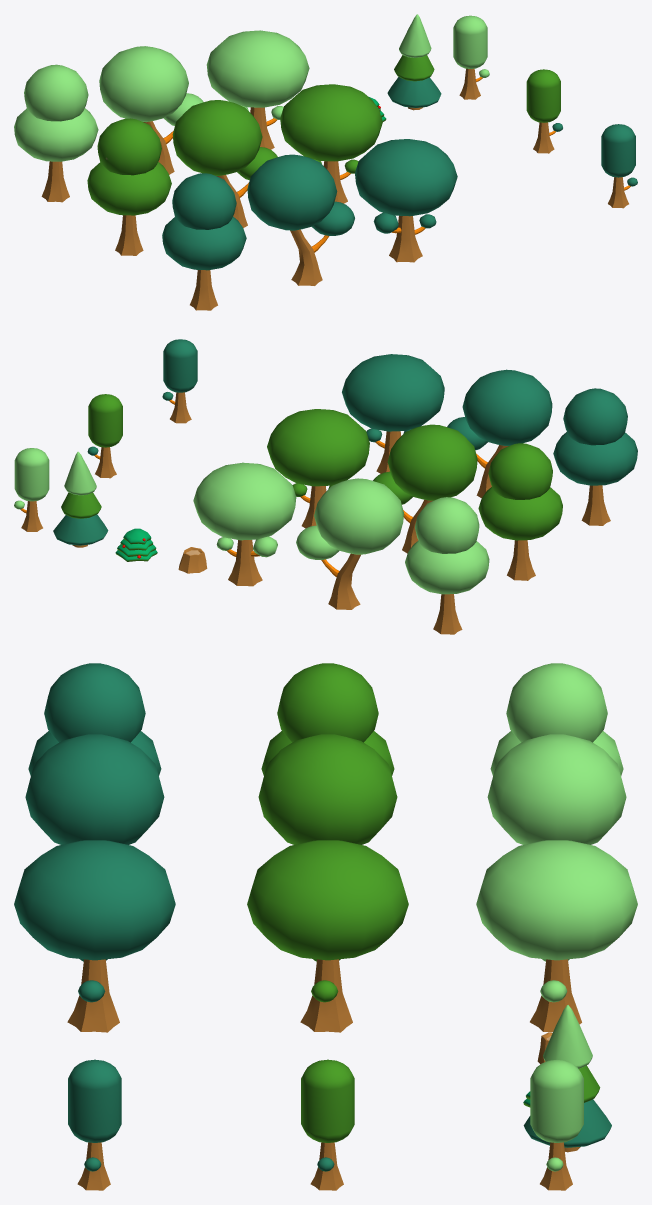
File: tree_v2.fbx
3 renders of one model, top to bottom at view 1: azimuth 30°, elevation 25°; view 2: azimuth 150°, elevation 25°; view 3: azimuth 270°, elevation 25°, orthographic. The views are drawn at different scales.
Visible parts, largest first — view 1: Tree_02_color_03, Tree_03_color_03, Tree_04_color_03, Tree_04_color_01, Tree_04_color_02, Tree_02_color_01, Tree_02_color_02, Tree_03_color_02, Tree_03_color_01, Christmas_tree, Tree_01_color_02, Tree_01_color_03 (+1 smaller); view 2: Tree_02_color_01, Tree_03_color_01, Tree_04_color_03, Tree_04_color_01, Tree_04_color_02, Tree_02_color_02, Tree_02_color_03, Tree_03_color_03, Tree_03_color_02, Christmas_tree, Tree_01_color_01, Tree_01_color_03 (+3 smaller); view 3: Tree_02_color_03, Tree_02_color_02, Tree_02_color_01, Tree_03_color_02, Tree_03_color_01, Tree_03_color_03, Tree_04_color_01, Tree_04_color_03, Tree_04_color_02, Tree_01_color_02, Tree_01_color_01, Tree_01_color_03 (+1 smaller).
Part boxes in pixels (bbox=[...]): Tree_02_color_03: bbox=[355, 139, 457, 262]; Tree_03_color_03: bbox=[247, 154, 354, 285]; Tree_04_color_03: bbox=[162, 173, 246, 310]; Tree_04_color_01: bbox=[14, 64, 98, 202]; Tree_04_color_02: bbox=[87, 118, 171, 255]; Tree_02_color_01: bbox=[206, 30, 309, 149]; Tree_02_color_02: bbox=[280, 84, 382, 203]; Tree_03_color_02: bbox=[172, 100, 277, 227]; Tree_03_color_01: bbox=[99, 46, 203, 174]; Christmas_tree: bbox=[387, 14, 441, 110]; Tree_01_color_02: bbox=[526, 69, 562, 153]; Tree_01_color_03: bbox=[601, 124, 637, 208]; Tree_02_color_01: bbox=[193, 462, 296, 586]; Tree_03_color_01: bbox=[296, 478, 403, 609]; Tree_04_color_03: bbox=[553, 388, 637, 525]; Tree_04_color_01: bbox=[405, 497, 489, 634]; Tree_04_color_02: bbox=[478, 443, 562, 580]; Tree_02_color_02: bbox=[267, 409, 369, 528]; Tree_02_color_03: bbox=[342, 354, 444, 473]; Tree_03_color_03: bbox=[447, 369, 552, 498]; Tree_03_color_02: bbox=[373, 424, 477, 553]; Christmas_tree: bbox=[53, 451, 108, 547]; Tree_01_color_01: bbox=[14, 448, 49, 531]; Tree_01_color_03: bbox=[162, 339, 197, 423]; Tree_02_color_03: bbox=[14, 840, 175, 1032]; Tree_02_color_02: bbox=[247, 840, 408, 1032]; Tree_02_color_01: bbox=[476, 840, 637, 1031]; Tree_03_color_02: bbox=[258, 734, 397, 844]; Tree_03_color_01: bbox=[487, 734, 626, 844]; Tree_03_color_03: bbox=[25, 734, 164, 844]; Tree_04_color_01: bbox=[490, 663, 623, 775]; Tree_04_color_03: bbox=[28, 663, 161, 775]; Tree_04_color_02: bbox=[261, 663, 394, 775]; Tree_01_color_02: bbox=[301, 1059, 354, 1190]; Tree_01_color_01: bbox=[530, 1059, 583, 1190]; Tree_01_color_03: bbox=[68, 1059, 121, 1190].
Size of the model in its own units: 1543 by 409 by 1140.
